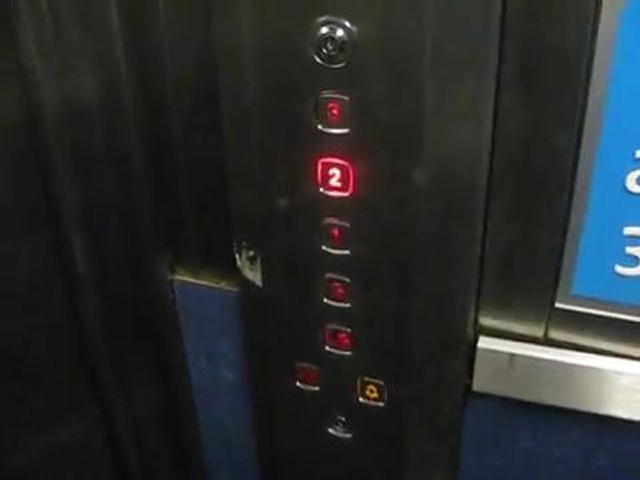2: (313, 153, 356, 200)
3: (311, 87, 353, 138)
alarm: (354, 373, 388, 409)
blur: (317, 214, 354, 258), (319, 269, 353, 310), (321, 319, 355, 357), (291, 358, 322, 394)
keyhole: (302, 11, 359, 70), (325, 408, 354, 440)
